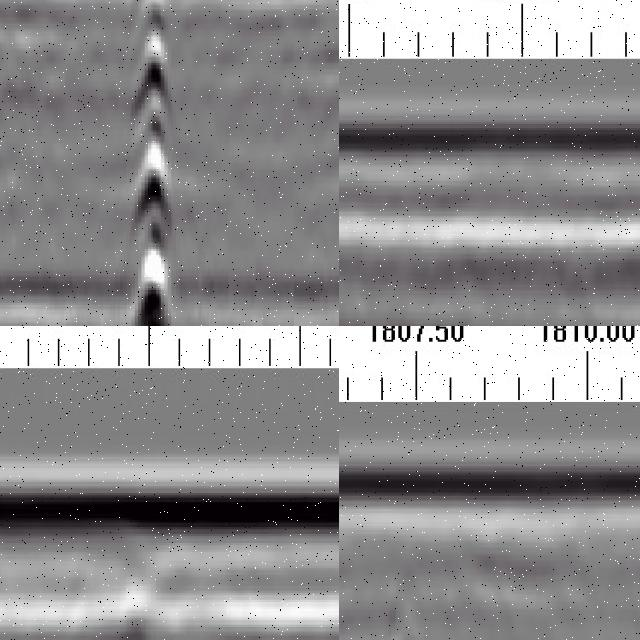crack: (127, 1, 176, 327)
